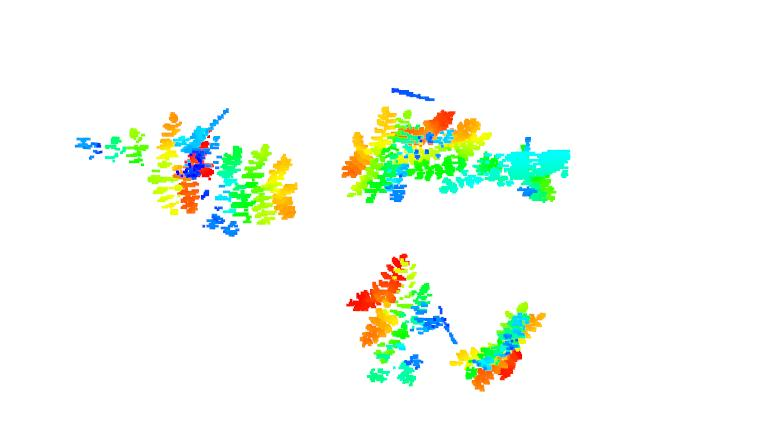chickpea: (81, 111, 217, 215), (349, 104, 488, 202), (347, 254, 446, 380), (441, 135, 576, 208), (451, 299, 550, 392), (213, 140, 304, 231)
